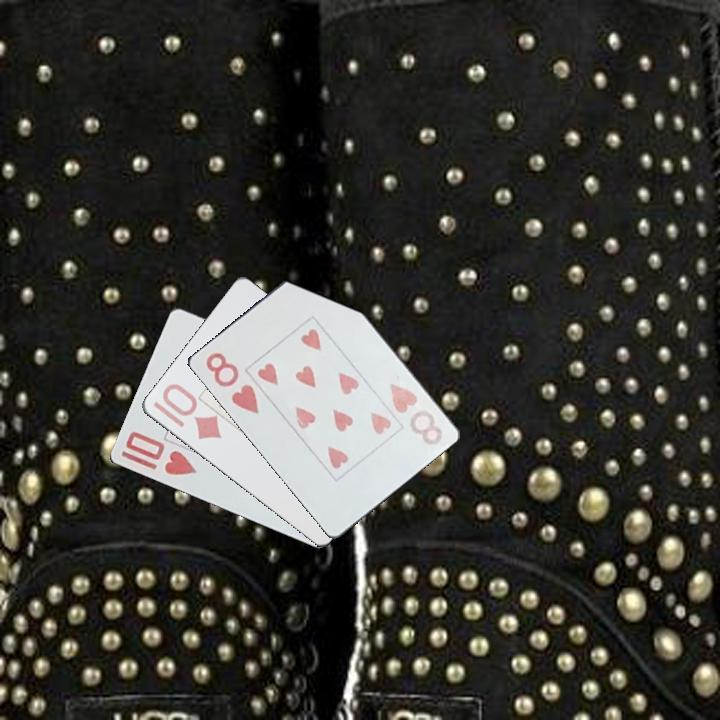8h: (202, 349, 263, 417), (386, 380, 445, 448)
Td: (149, 380, 225, 443)
Th: (122, 428, 200, 478)
